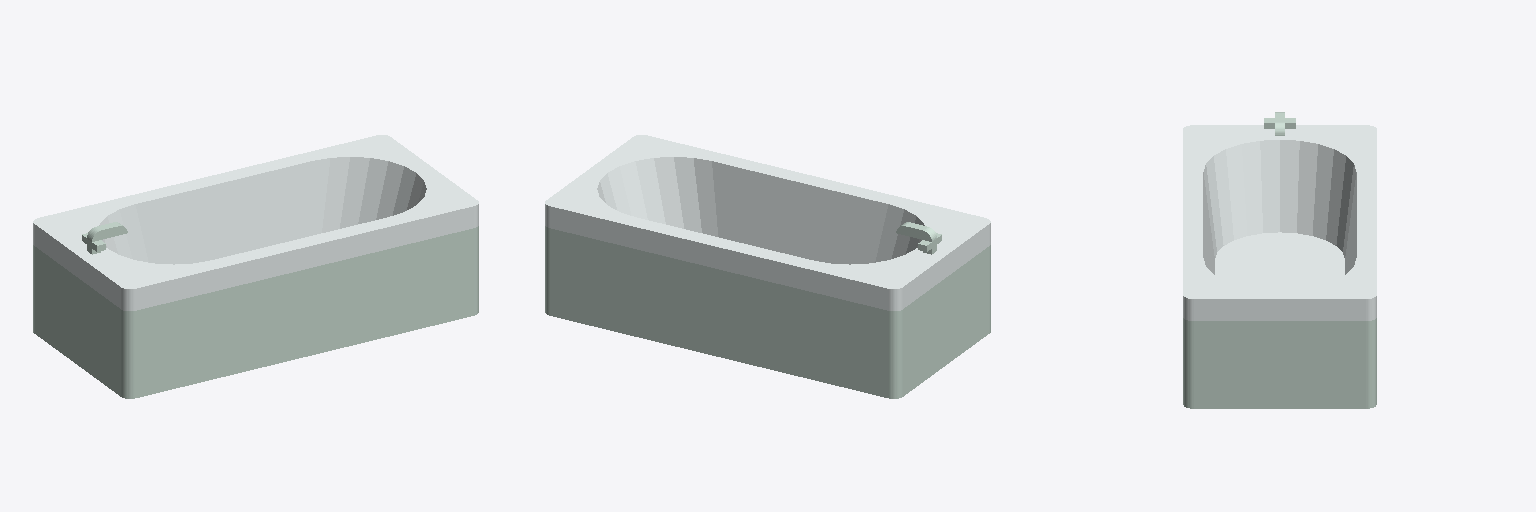
Rendered from bathtub.obj.
3 renders of one model, left to right at view 1: azimuth 30°, elevation 25°; view 2: azimuth 150°, elevation 25°; view 3: azimuth 270°, elevation 25°, orthographic.
Visible parts, largest first — view 1: bathtub; view 2: bathtub; view 3: bathtub.
Boxes of the visible parts, box(x1,y1,x2,y2) form: bathtub: box(33, 135, 478, 398); bathtub: box(545, 135, 990, 398); bathtub: box(1183, 112, 1376, 408).
Bounding box in the file's own units: 11.9 × 4.2 × 5.6.